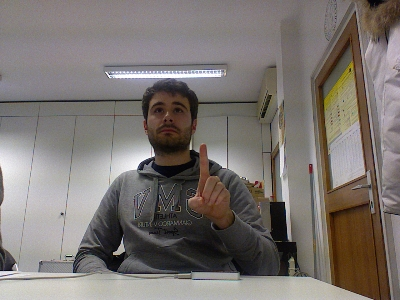食指: (185, 141, 231, 221)
